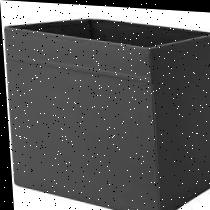cube: (3, 14, 210, 210)
